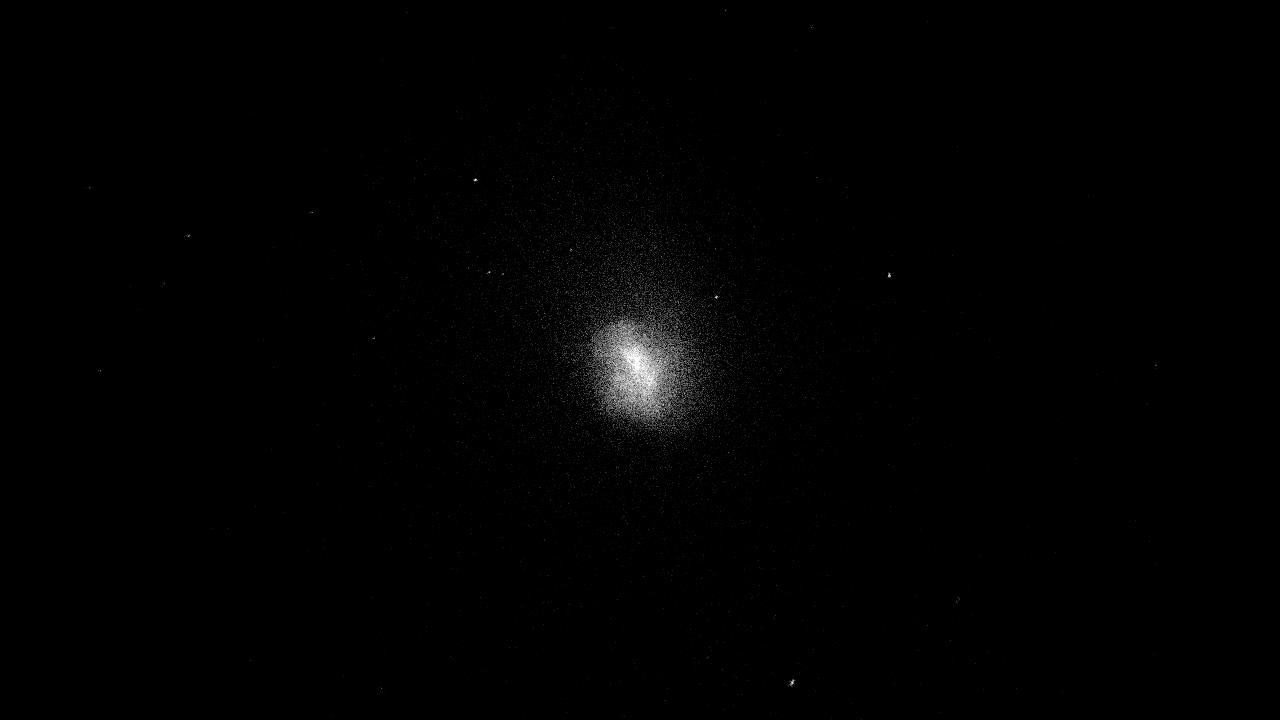Cavity: (609, 356, 635, 373), (647, 347, 663, 360), (628, 356, 635, 363), (638, 358, 643, 363)
Galaxy: (578, 316, 696, 429)
